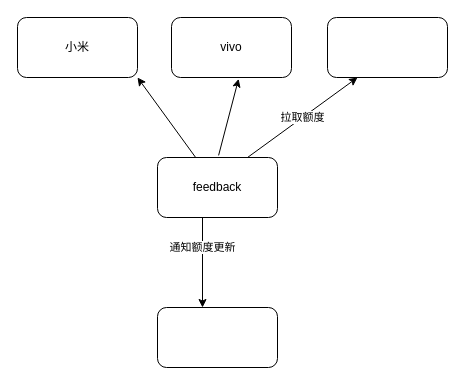
Image size: 465x385. Some labels were removed from this diagram. The centre of each missing label's shape, as x and y in pixels:
"oppo" belongs at point (387, 47).
"push_serverv2_d" belongs at point (217, 337).
